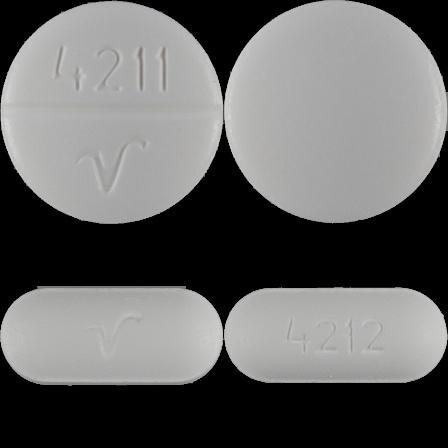0615-7572: (0, 0, 224, 224)
